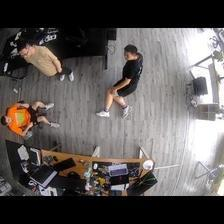fall: (95, 44, 144, 119)
normal: (15, 40, 74, 83), (1, 101, 60, 135)
